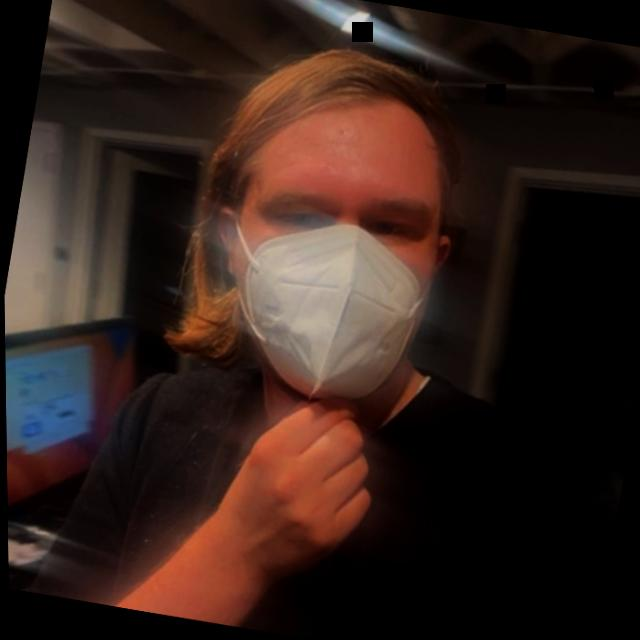Mask: (122, 0, 516, 430)
